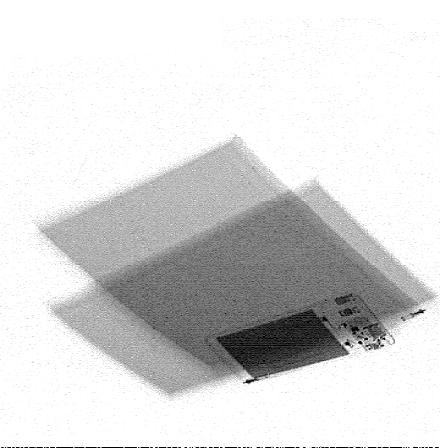Powerbank: (203, 290, 396, 386)
